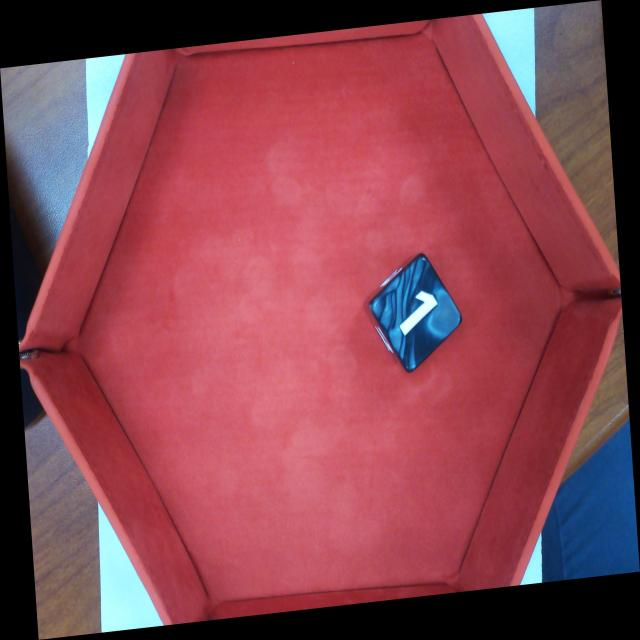dice: (374, 251, 463, 370)
